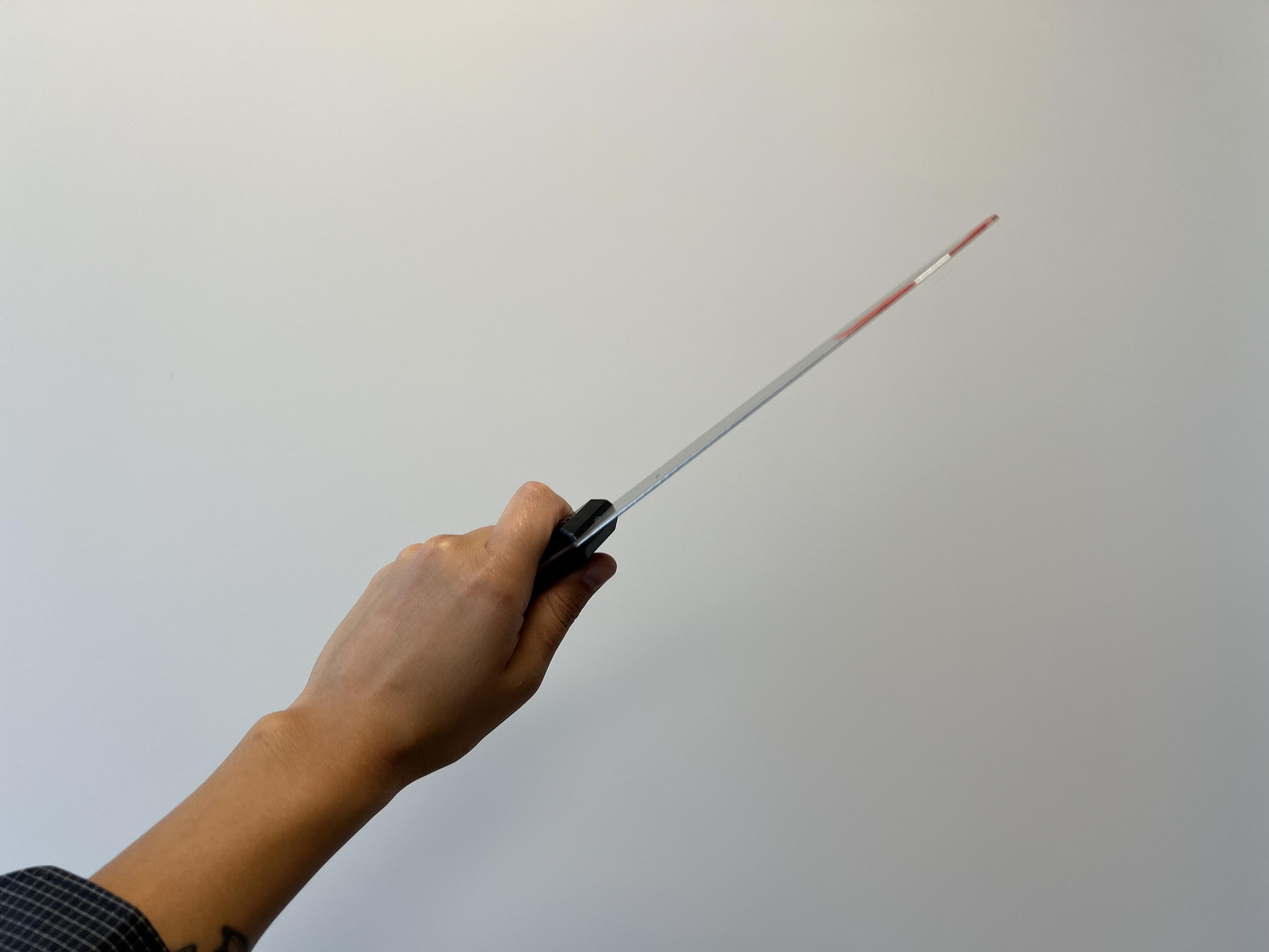Knife: (0, 480, 614, 952), (546, 215, 1006, 574), (343, 480, 608, 782)
